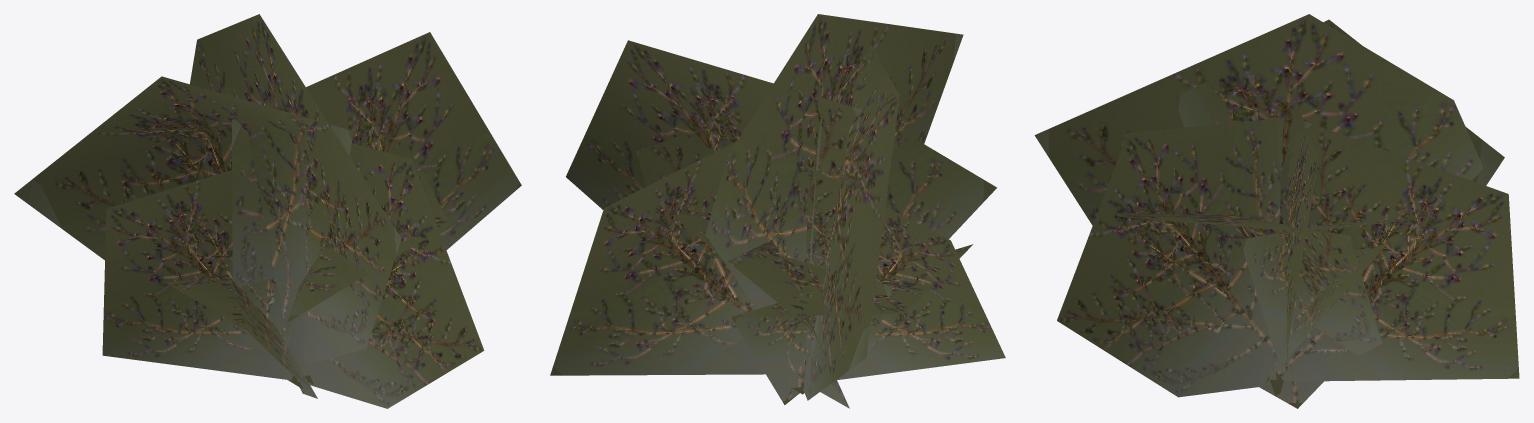
File: prop_thindesertfiller_aa.FBX
3 renders of one model, left to right at view 1: azimuth 30°, elevation 25°; view 2: azimuth 150°, elevation 25°; view 3: azimuth 270°, elevation 25°, orthographic. The views are drawn at different scales.
Parts seen in each view (by area): view 1: prop_thindesertfiller_aa; view 2: prop_thindesertfiller_aa; view 3: prop_thindesertfiller_aa.
Part boxes in pixels (x1=…): prop_thindesertfiller_aa: x1=14, y1=14, x2=521, y2=408; prop_thindesertfiller_aa: x1=550, y1=14, x2=1005, y2=408; prop_thindesertfiller_aa: x1=1034, y1=14, x2=1519, y2=408.
Bounding box in the file's own units: 2.11 × 2.16 × 1.85.
Materials: 1 (1 with a texture image).
